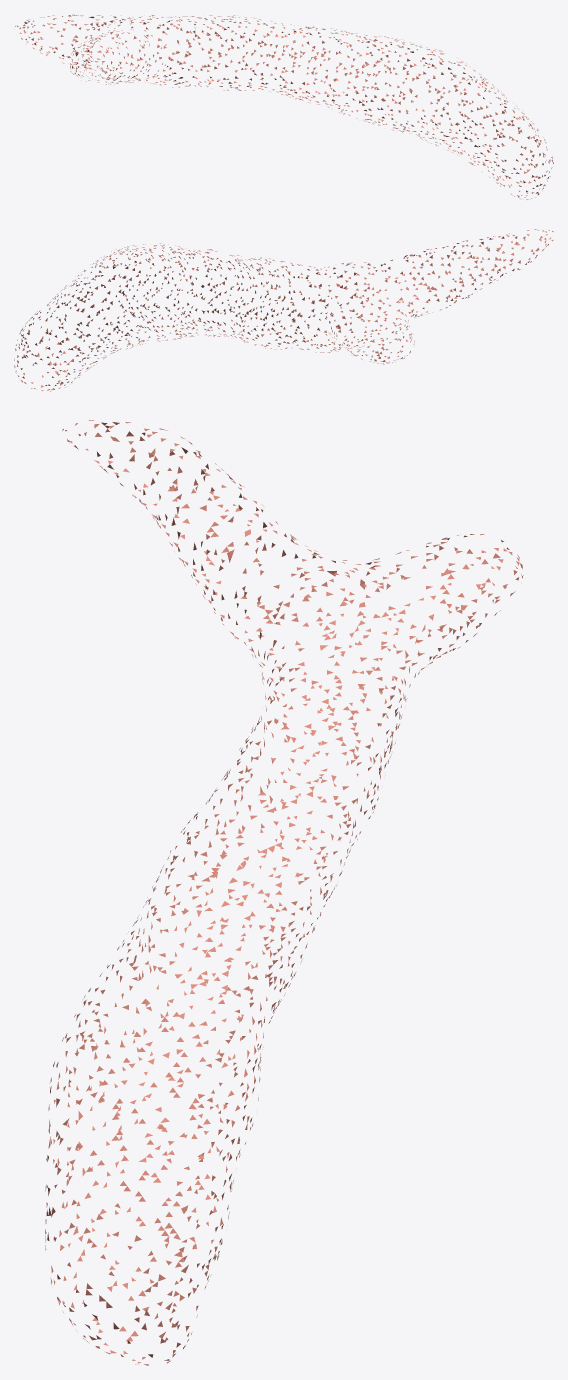
Rendered from morph_002.glb.
3 renders of one model, top to bottom at view 1: azimuth 30°, elevation 25°; view 2: azimuth 150°, elevation 25°; view 3: azimuth 270°, elevation 25°, orthographic. The views are drawn at different scales.
Size of the model in its own units: 109 by 54.97 by 47.12.
